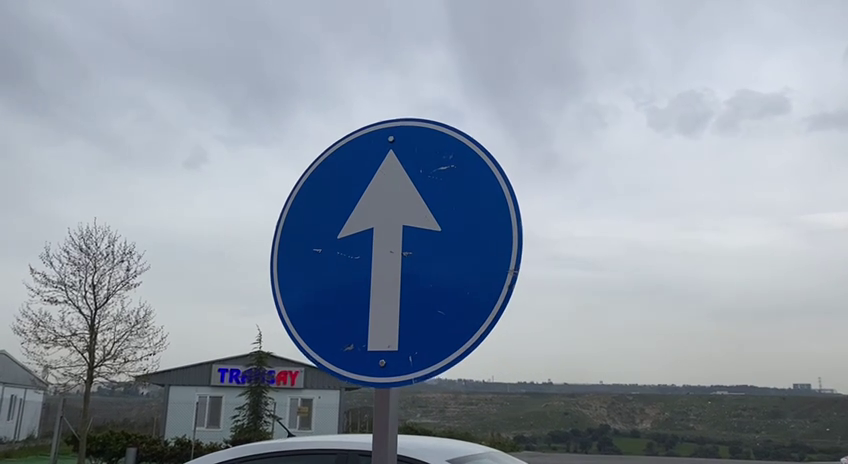forward: (266, 116, 531, 389)
